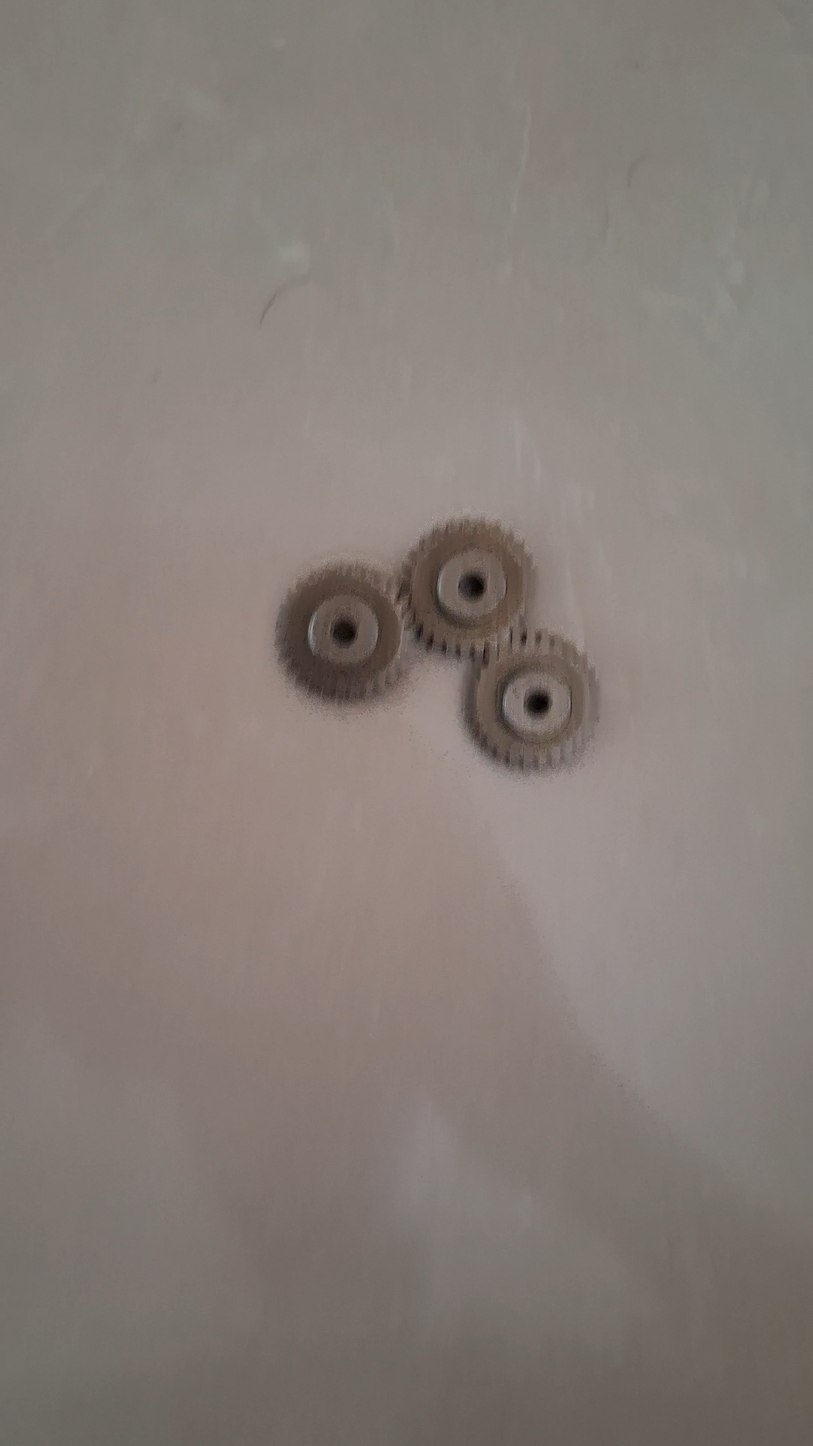spur gear: (470, 622, 597, 769), (400, 520, 530, 658), (276, 563, 403, 699)
